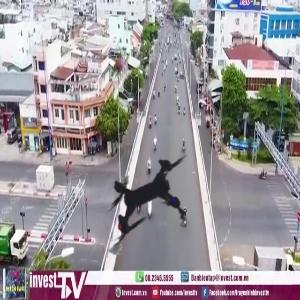drone: (57, 111, 238, 292)
